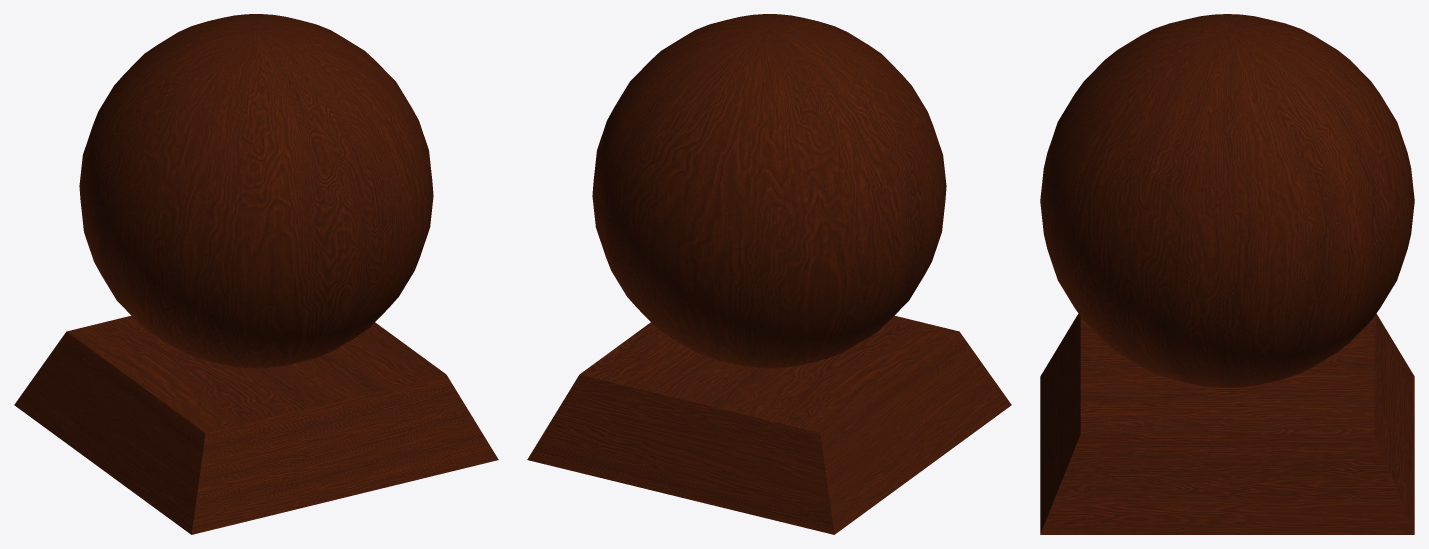
File: wood.glb
3 views of the same model, side by side, from view 1: azimuth 30°, elevation 25°; view 2: azimuth 150°, elevation 25°; view 3: azimuth 270°, elevation 25° (orthographic). The views are drawn at different scales.
Visible parts, largest first — view 1: Cube; view 2: Cube; view 3: Cube.
Part boxes in pixels (left/top/right/bottom): Cube: left=14, top=14, right=498, bottom=534; Cube: left=527, top=14, right=1011, bottom=534; Cube: left=1040, top=14, right=1414, bottom=534.
Size of the model in its own units: 2 by 2.5 by 2.
1 material, 1 textured.
